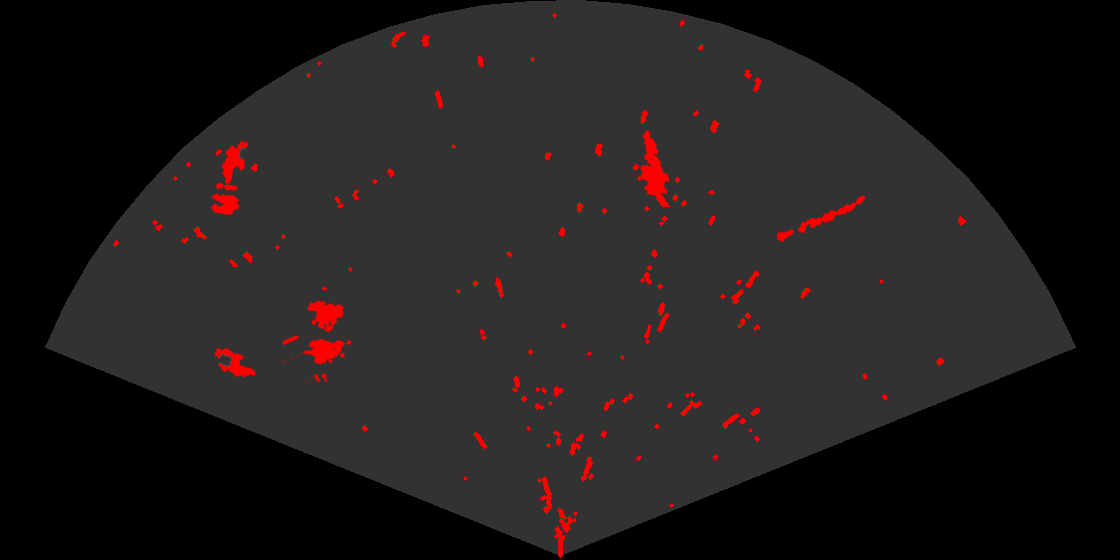AUV: (213, 346, 258, 379), (220, 139, 250, 186)
ball: (209, 181, 241, 217)
cage: (283, 299, 353, 382)
chain: (774, 194, 867, 244)
frogman: (636, 129, 671, 207)
